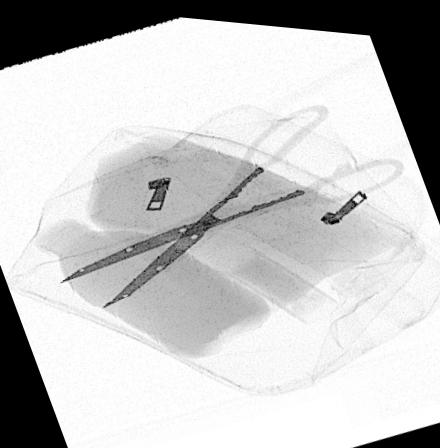Scissors: (57, 97, 408, 310)
